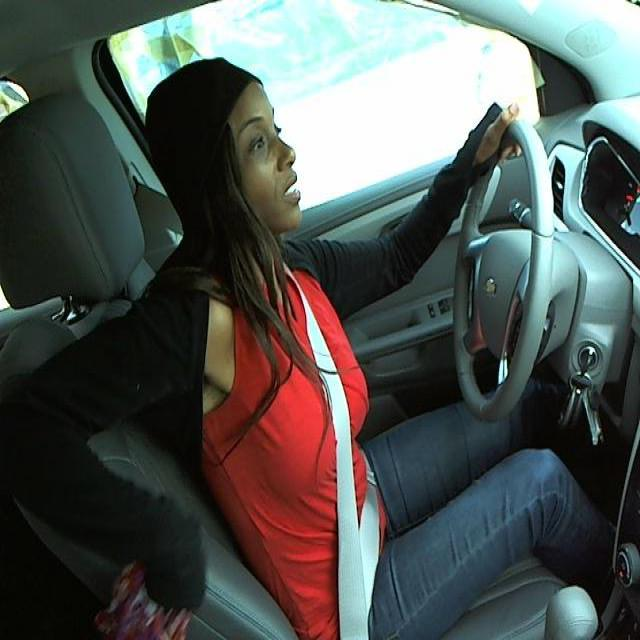seatbelt: (292, 292, 395, 632)
